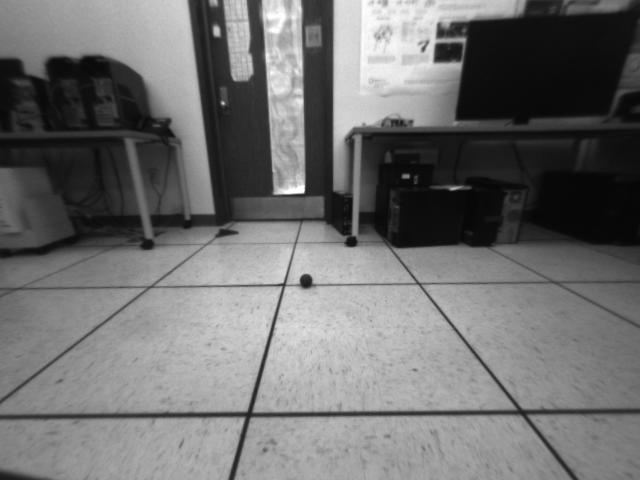dogtoy: (295, 266, 320, 293)
